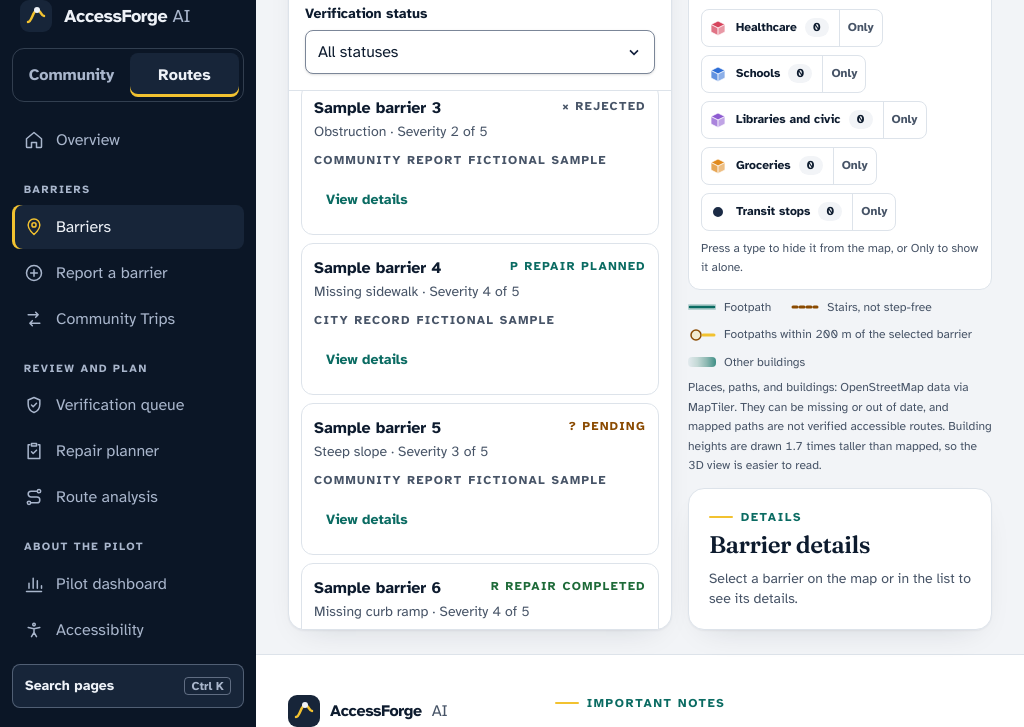
Test: Barriers page › shows details when a barrier is chosen from the list
Earlier steps of the test are not shown.
(page scrolled)
Expected: the element that starts with "Details" shows "Select a barrier on the map or in the list", [709,570,971,607]
Click the button named "View details for Sample barrier 4" at [367, 360], box [314,338,420,382]
(page scrolled)
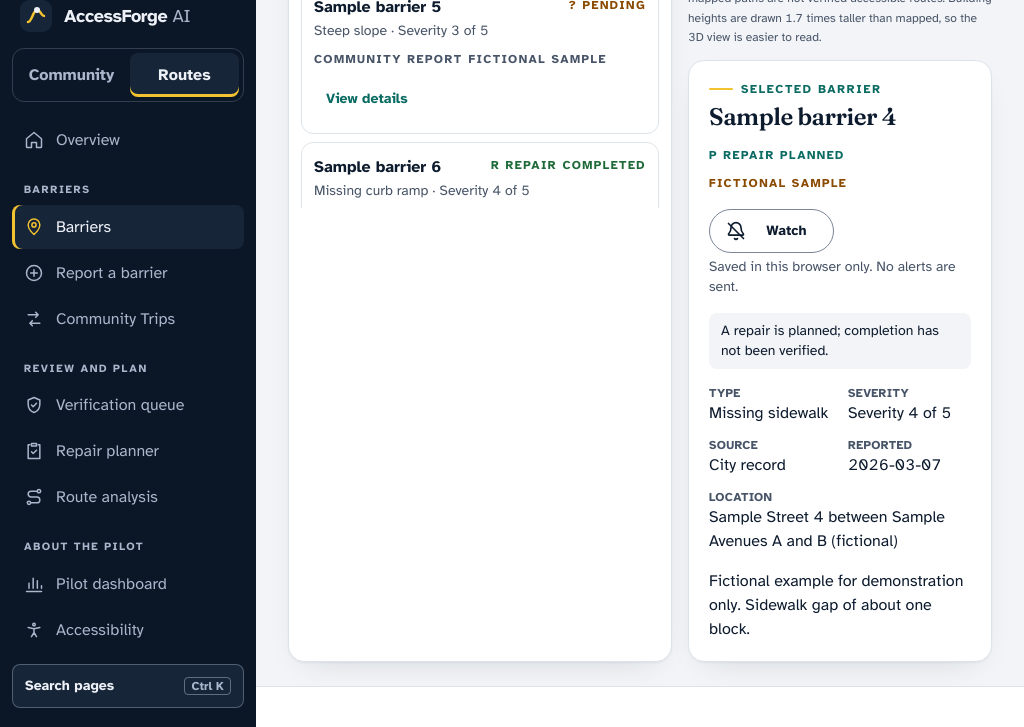
Expected: the heading "Sample barrier 4" is shown, [709,102,896,130]
Expected: the element that starts with "Selected barrier" shows "Missing sidewalk", [709,402,828,422]
Expected: the element that starts with "Selected barrier" shows "Repair planned", [709,148,845,162]
